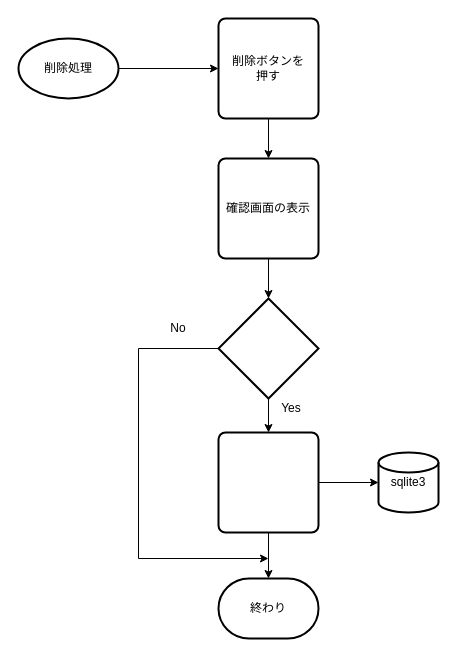
The diagram is 456 pixels wide and 656 high, and some of its shapes have lost their labels. The shapes that lost their labels are listed below. From the top down, each one's centre as x and y in pixels, then its label:
At (268,348): "Yesが押された".
At (268,482): "データベースから削除する".
